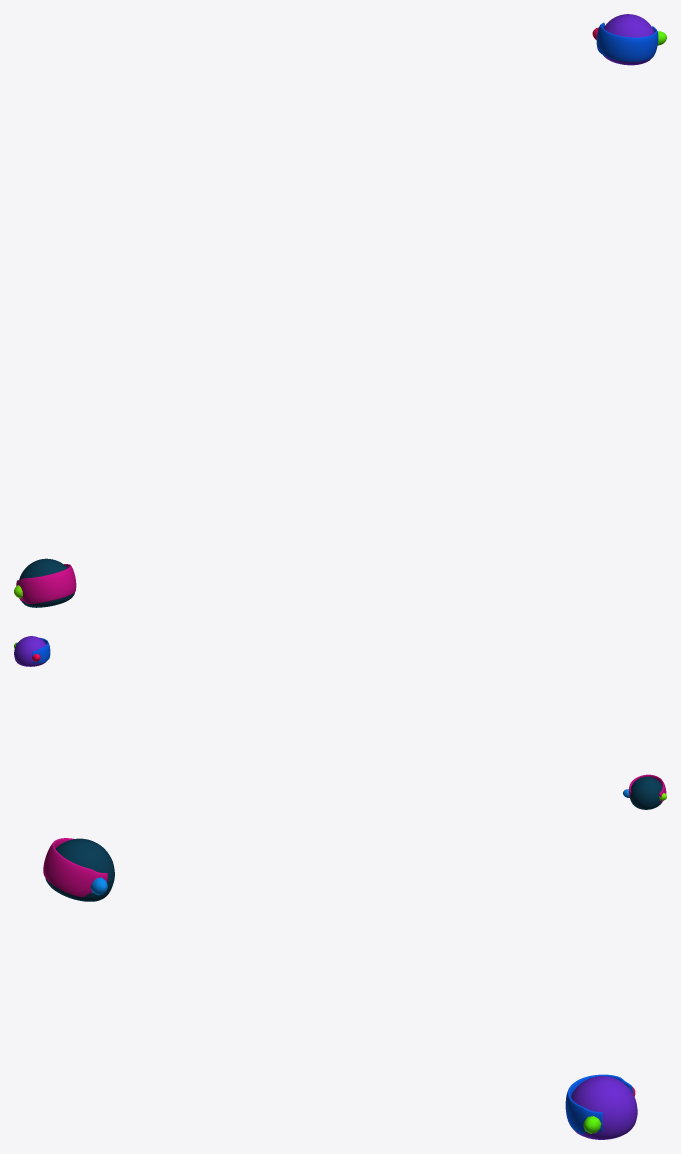
Rendered from Helmet_low.fbx.
3 renders of one model, top to bottom at view 1: azimuth 30°, elevation 25°; view 2: azimuth 150°, elevation 25°; view 3: azimuth 270°, elevation 25°, orthographic. The views are drawn at different scales.
Parts seen in each view (by area): view 1: Helmet_low; view 2: Helmet_low; view 3: Helmet_low.
Part boxes in pixels (bbox=[...]): Helmet_low: bbox=[14, 14, 666, 607]; Helmet_low: bbox=[14, 636, 666, 809]; Helmet_low: bbox=[43, 838, 637, 1139].
Bounding box in the file's own units: 2.66 × 0.704 × 1.31.
